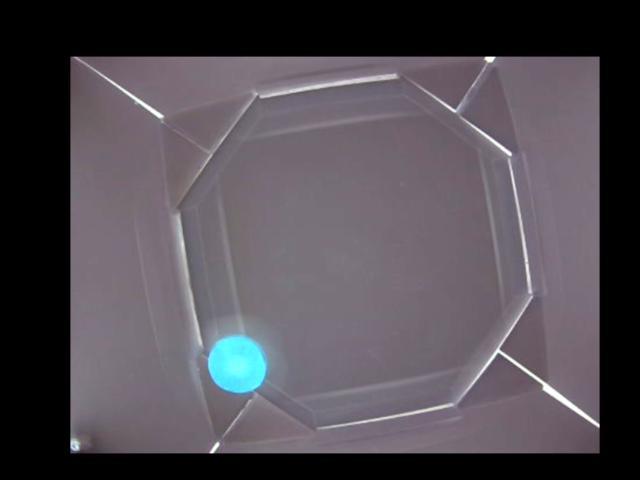Carrot: (208, 336, 267, 393)
